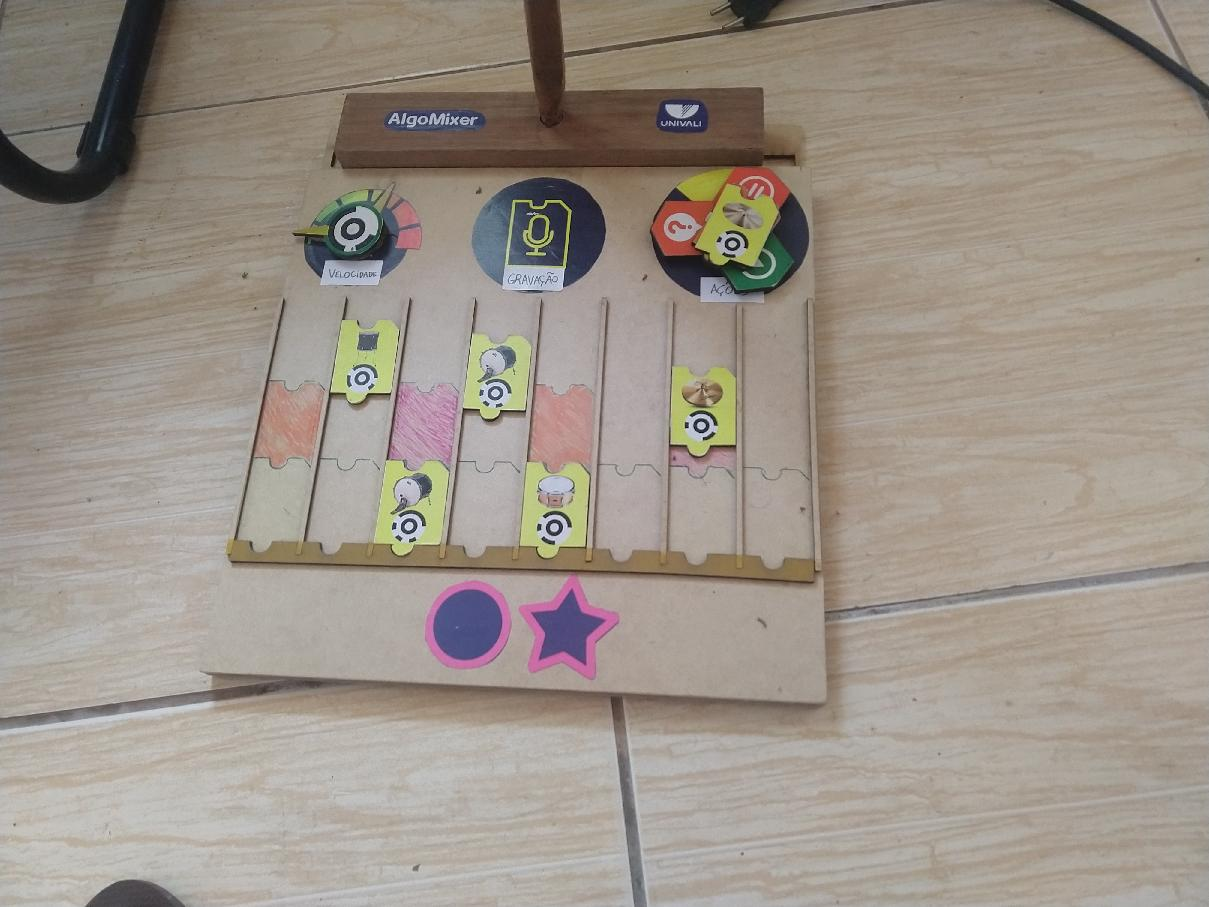bumbo: (374, 456, 450, 556), (462, 328, 533, 427)
